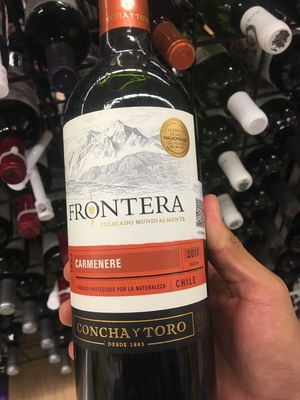frontera carmenere: (60, 21, 220, 400)
